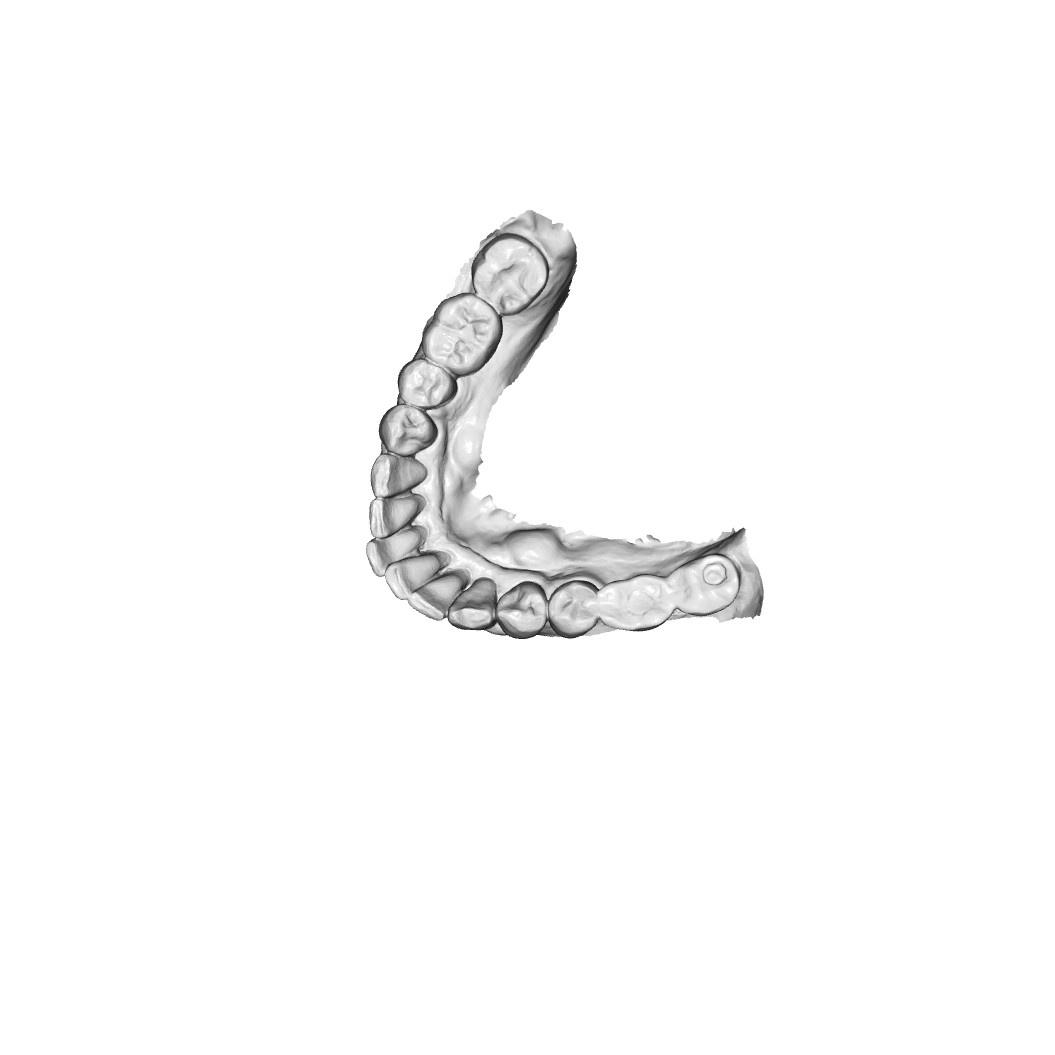canine: (372, 452, 430, 500), (449, 577, 496, 635)
incisor: (367, 530, 428, 576), (407, 570, 465, 616), (388, 552, 443, 596), (366, 493, 428, 531)
molar: (418, 293, 503, 378), (469, 231, 552, 318), (599, 573, 673, 633), (673, 551, 735, 613)
premolar: (396, 356, 458, 414), (379, 403, 443, 458), (548, 582, 596, 630), (501, 585, 546, 630)
